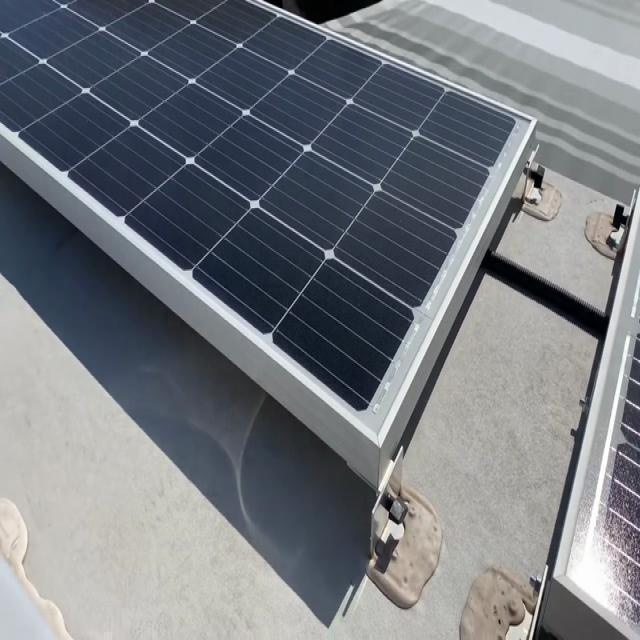Normal Solar Panel: (0, 0, 537, 447), (553, 191, 640, 640)
